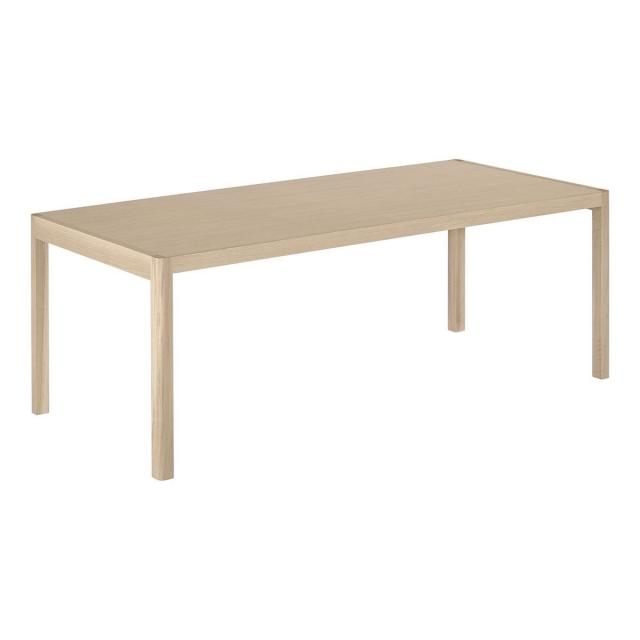table: (24, 146, 627, 545)
